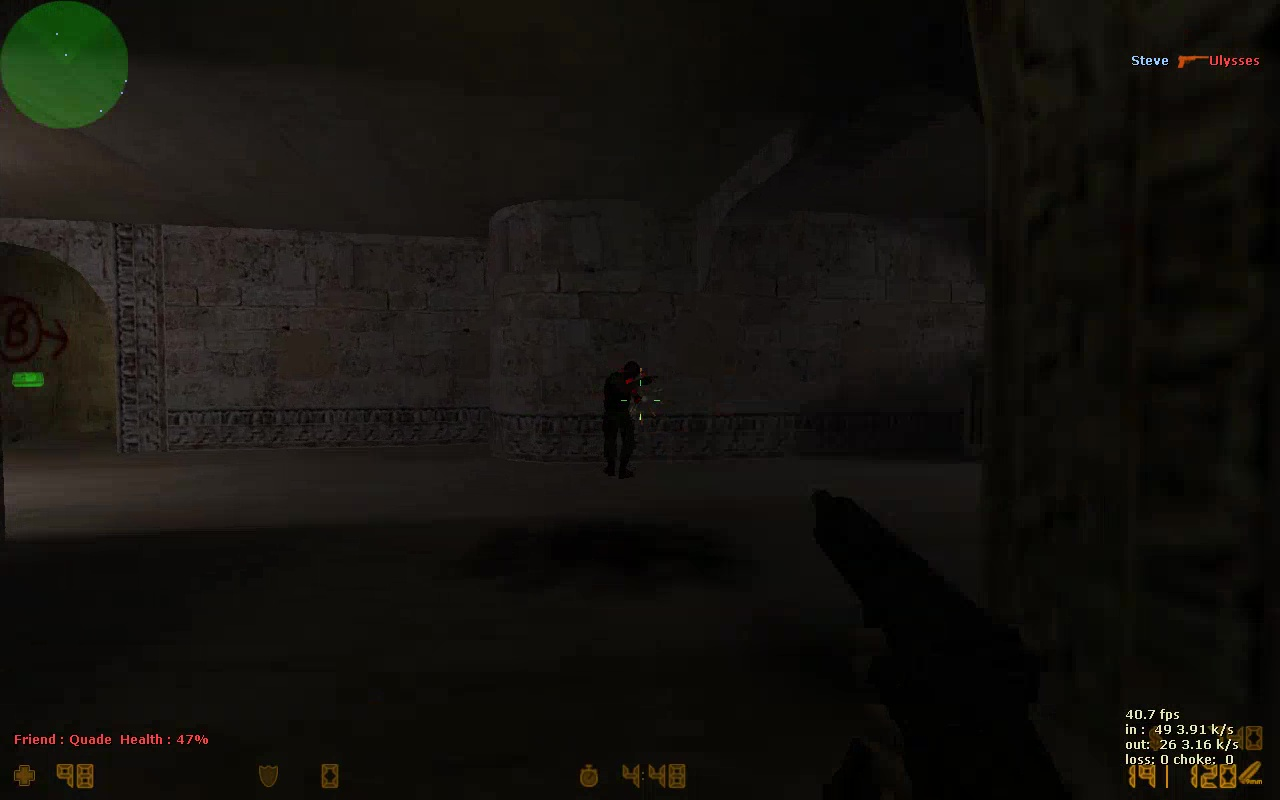terr1: (585, 362, 661, 476)
